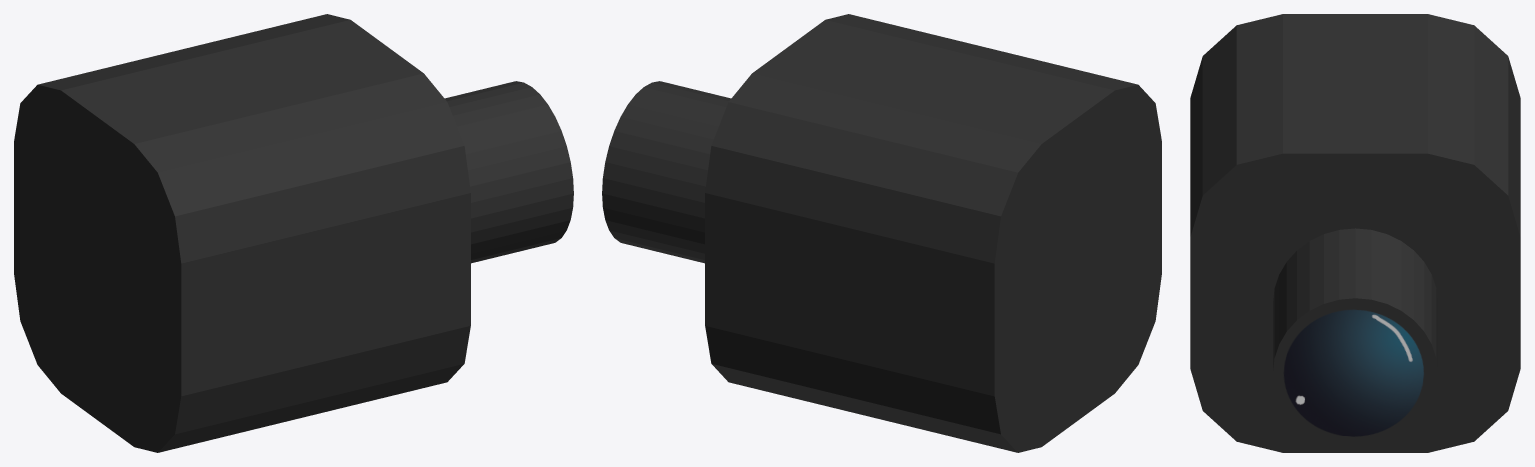
File: Camera.fbx
The picture shows the model from 3 angles, left to right: view 1: azimuth 30°, elevation 25°; view 2: azimuth 150°, elevation 25°; view 3: azimuth 270°, elevation 25°; orthographic projection.
Visible parts, largest first — view 1: Cylinder.001; view 2: Cylinder.001; view 3: Cylinder.001.
Part boxes in pixels (x1,y1,x2,y2): Cylinder.001: (14, 14, 573, 452); Cylinder.001: (602, 14, 1161, 452); Cylinder.001: (1190, 14, 1520, 452).
Bounding box in the file's own units: 300 × 200 × 200.
